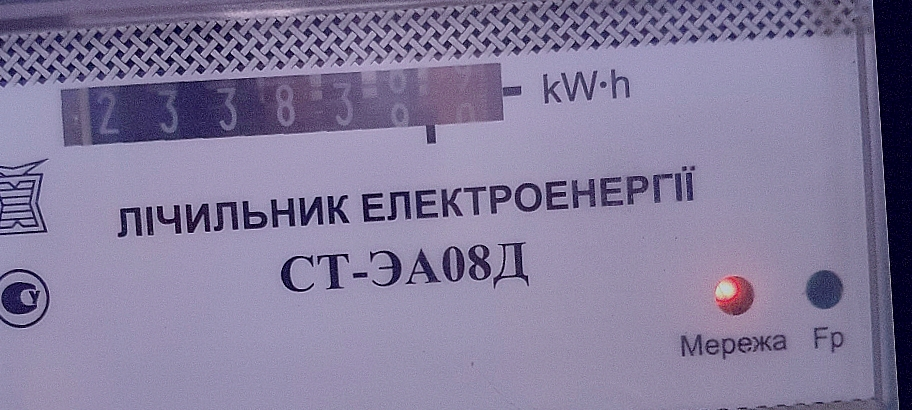0: (451, 98, 479, 124)
2: (91, 87, 122, 137)
3: (152, 85, 182, 136), (213, 83, 241, 134), (329, 77, 357, 127)
8: (271, 80, 298, 128), (383, 67, 412, 95)
9: (384, 98, 413, 129), (449, 62, 476, 92)
screen: (46, 48, 523, 170)
